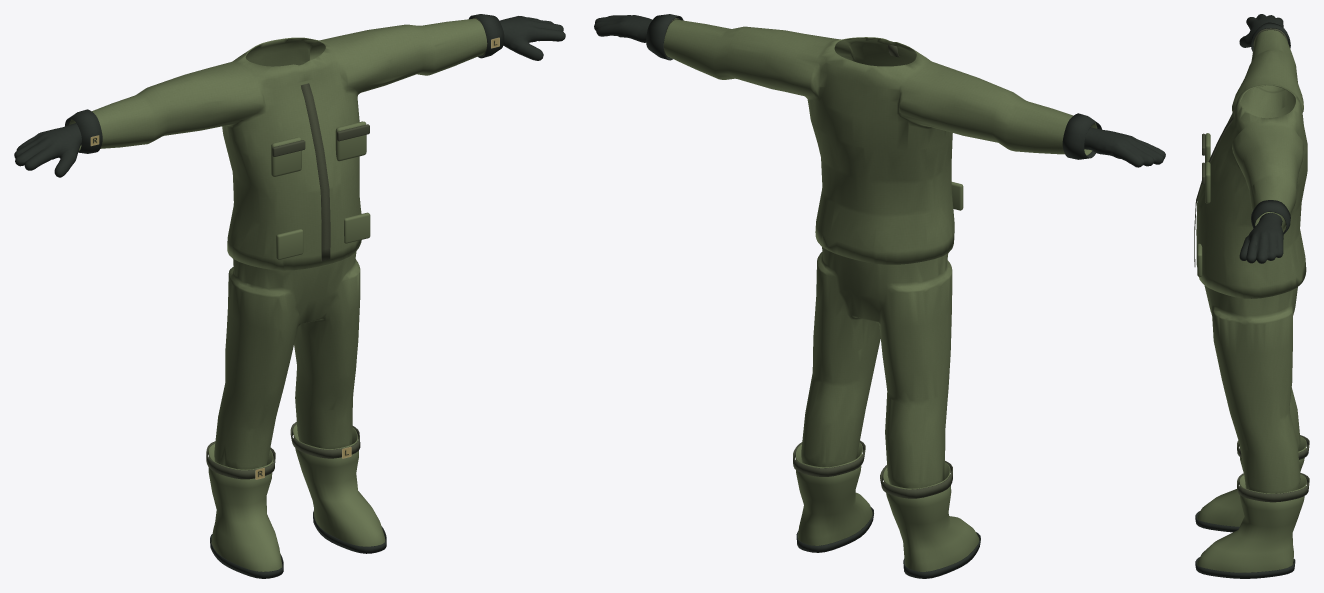
File: ProtectiveClothing_Worn.fbx
3 views of the same model, side by side, from view 1: azimuth 30°, elevation 25°; view 2: azimuth 150°, elevation 25°; view 3: azimuth 270°, elevation 25° (orthographic). The views are drawn at different scales.
Visible parts, largest first — view 1: Jacket_Worn, Trousers_Worn, Overboot_R_Worn, Overboot_L_Worn, Glove_R_Worn, Glove_L_Worn; view 2: Jacket_Worn, Trousers_Worn, Overboot_R_Worn, Overboot_L_Worn, Glove_R_Worn, Glove_L_Worn; view 3: Jacket_Worn, Trousers_Worn, Overboot_L_Worn, Glove_L_Worn, Overboot_R_Worn, Glove_R_Worn.
Boxes of the visible parts, <box> form: Jacket_Worn: <box>69,17,487,270</box>; Trousers_Worn: <box>214,251,360,469</box>; Overboot_R_Worn: <box>206,441,283,578</box>; Overboot_L_Worn: <box>290,422,386,553</box>; Glove_R_Worn: <box>14,109,102,177</box>; Glove_L_Worn: <box>469,14,565,60</box>; Jacket_Worn: <box>663,18,1097,264</box>; Trousers_Worn: <box>801,247,952,488</box>; Overboot_R_Worn: <box>880,461,980,578</box>; Overboot_L_Worn: <box>793,440,873,552</box>; Glove_R_Worn: <box>1062,113,1165,167</box>; Glove_L_Worn: <box>594,14,683,60</box>; Jacket_Worn: <box>1194,28,1307,298</box>; Trousers_Worn: <box>1204,285,1300,493</box>; Overboot_L_Worn: <box>1195,472,1309,578</box>; Glove_L_Worn: <box>1239,200,1290,263</box>; Overboot_R_Worn: <box>1195,435,1309,532</box>; Glove_R_Worn: <box>1239,14,1290,51</box>.
Bounding box in the file's own units: 1.8 × 1.52 × 0.3578.
1 material, 1 textured.
